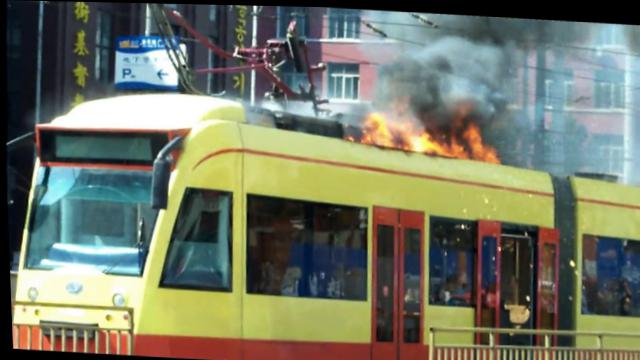fire: (364, 112, 396, 145), (404, 127, 438, 150), (464, 119, 483, 155), (438, 137, 467, 156), (481, 143, 496, 159)
